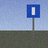sign: (27, 4, 40, 37)
